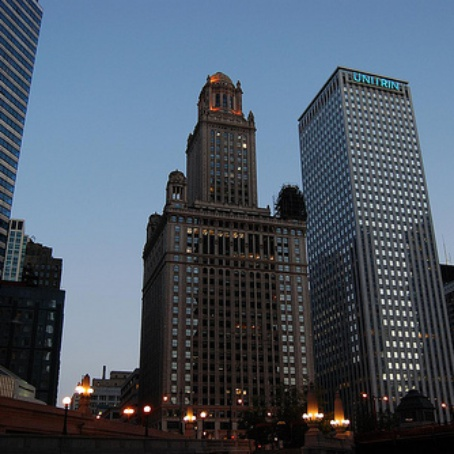building: (146, 65, 316, 433), (299, 59, 454, 422), (1, 1, 64, 409)
sky: (27, 1, 179, 377), (48, 1, 454, 87)
